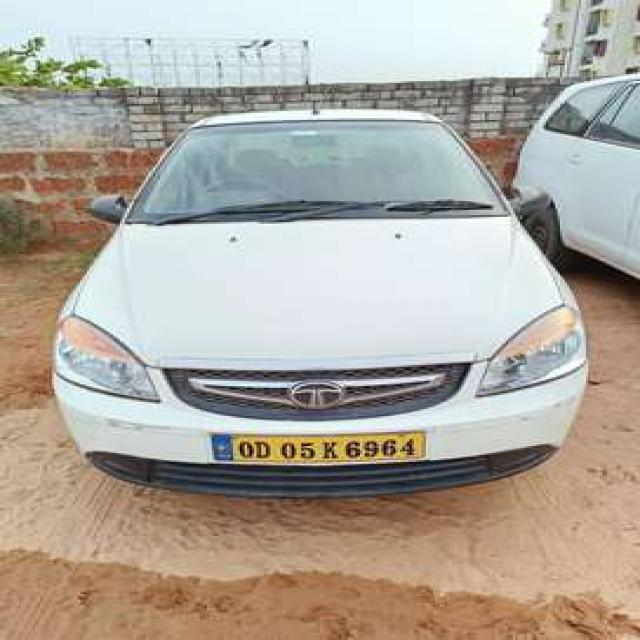Plate: (213, 430, 425, 461)
